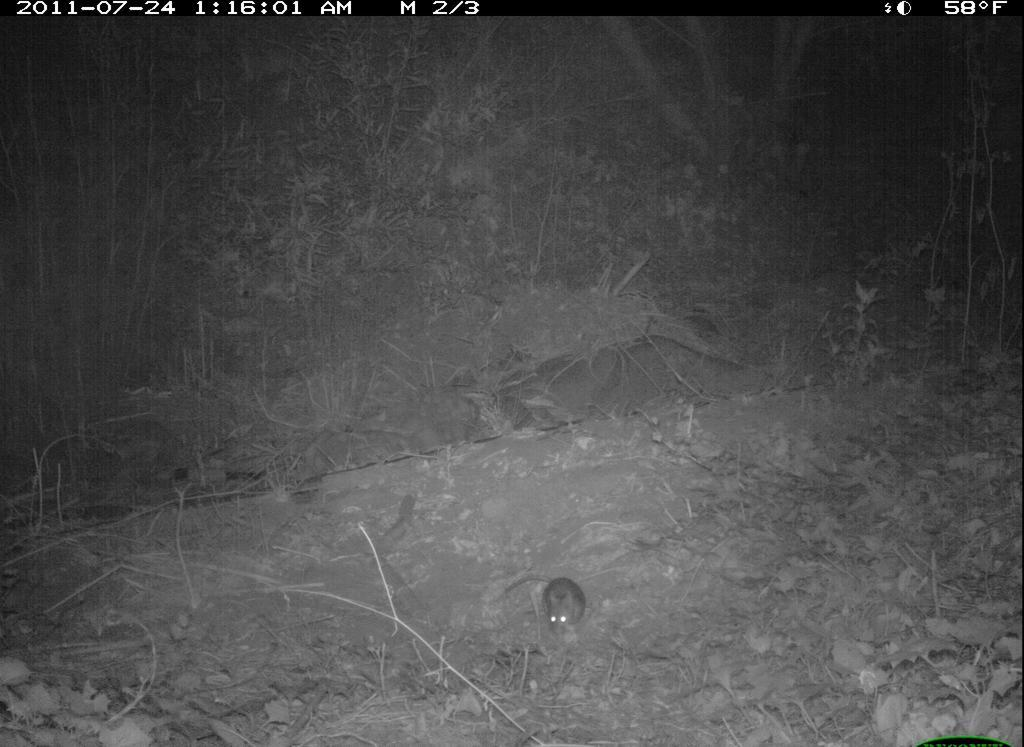rodent: (534, 569, 594, 649)
